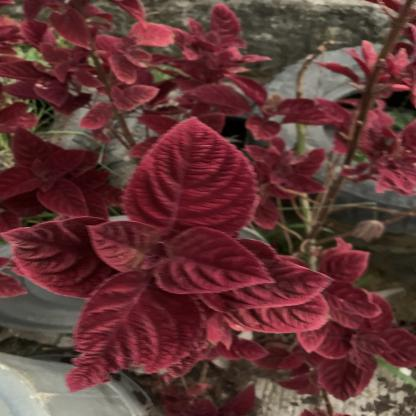Bunga Coleus: (15, 23, 393, 371)
